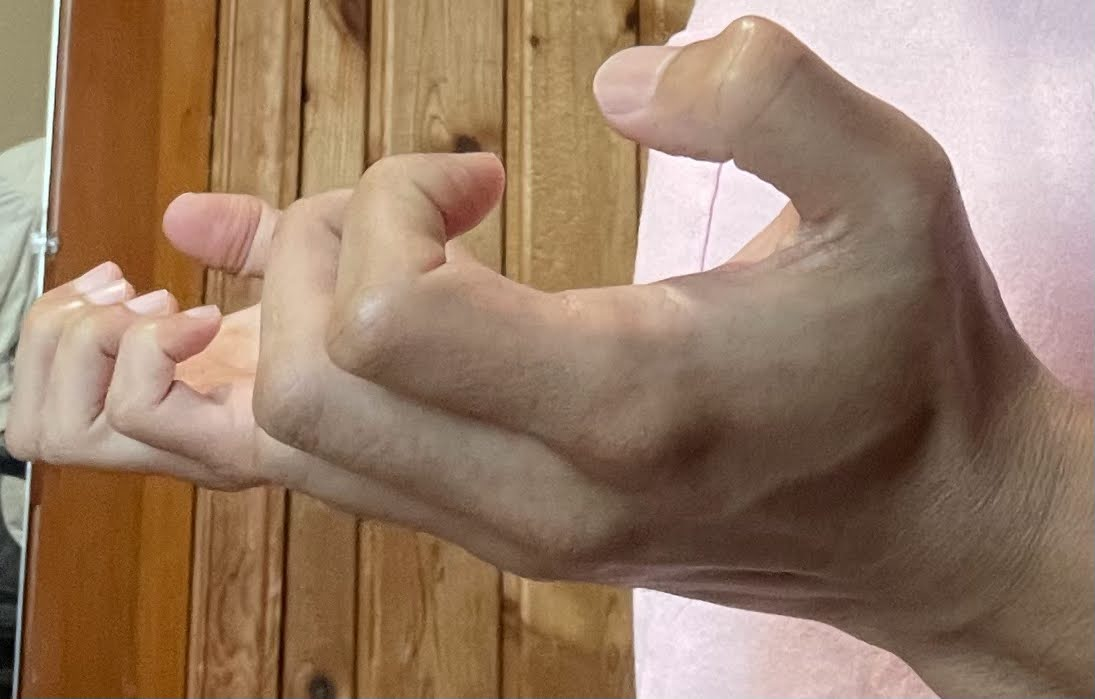want: (3, 17, 1075, 687)
